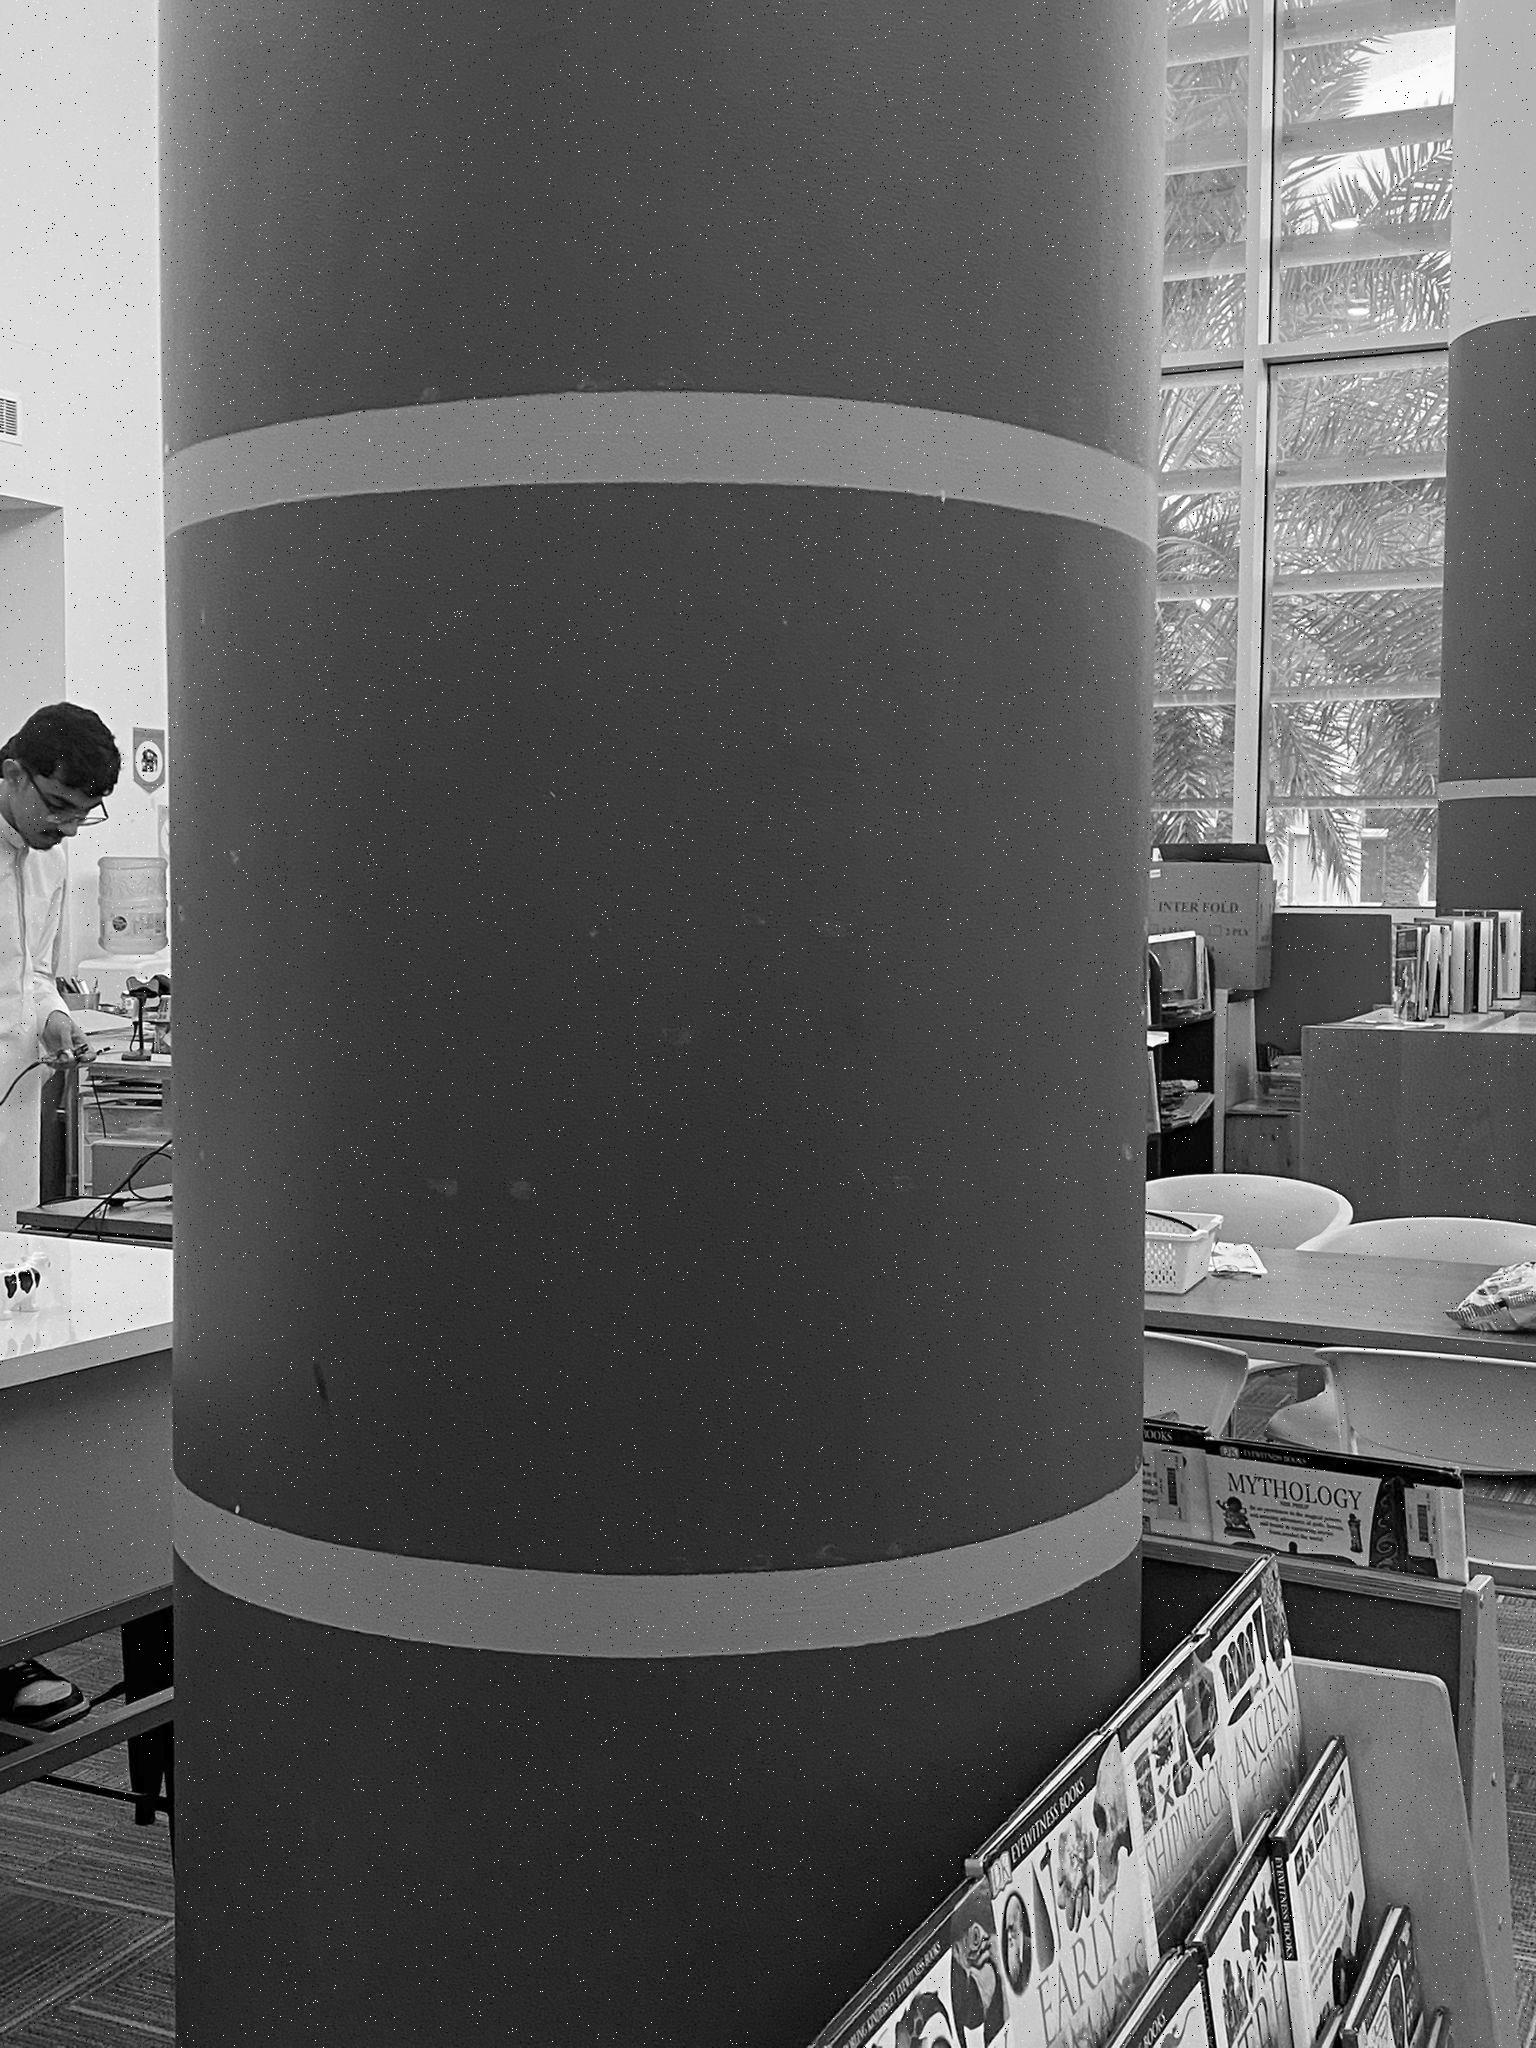Pillar: (161, 0, 1163, 2046)
objects: (1439, 0, 1534, 985)
